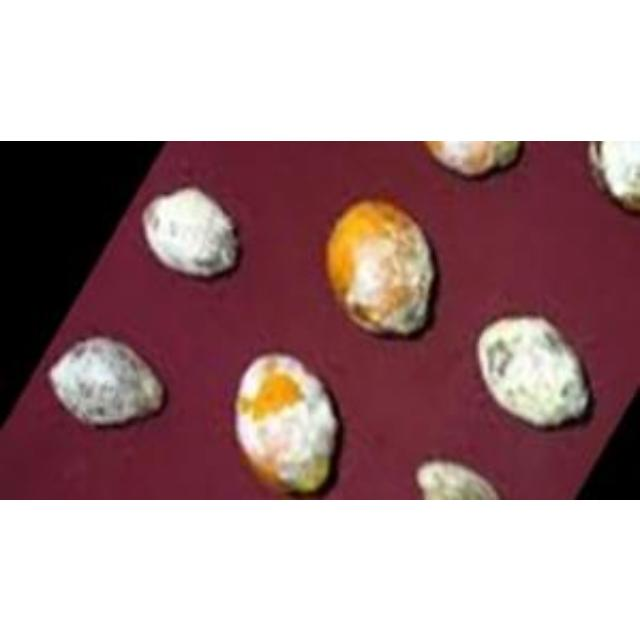damaged: (322, 196, 434, 336), (233, 351, 339, 495), (475, 313, 589, 429), (46, 334, 164, 428), (142, 185, 240, 279), (415, 458, 501, 498)
